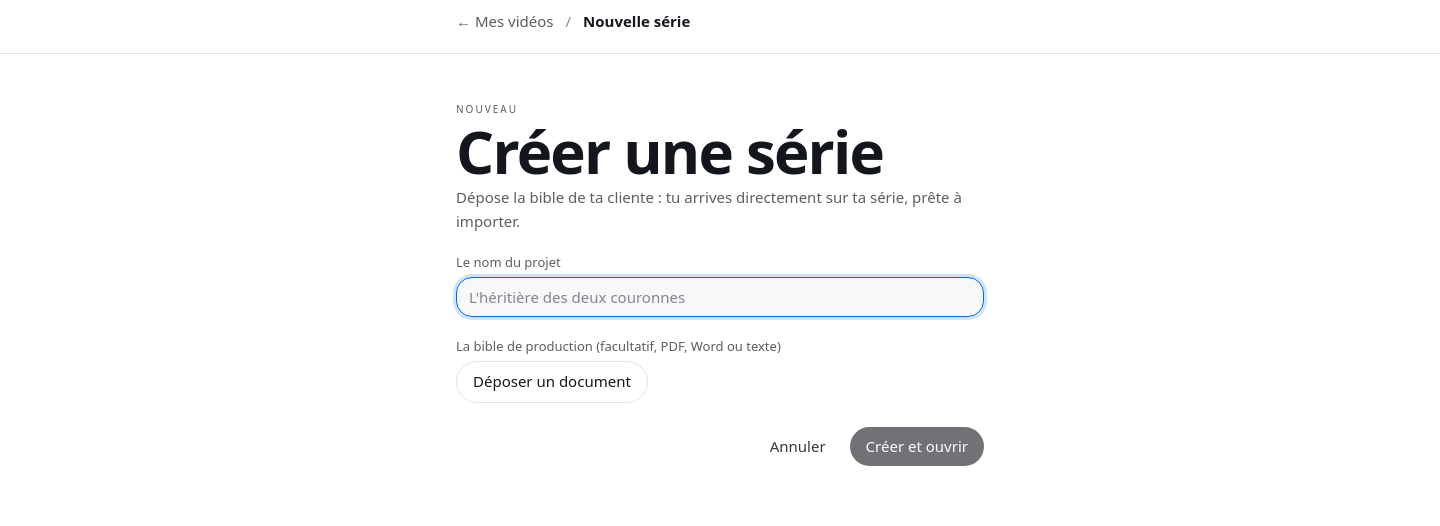
Scenario: Nouvelle série (page pleine, dédiée) › dit l'échec du serveur sans naviguer, si la création rate
The width and height of the screenshot is (1440, 526).
Type "L'héritière" into the field with placeholder "L'héritière des deux couronnes".
click(720, 297); type("L'héritière")  # box [456, 277, 984, 317]
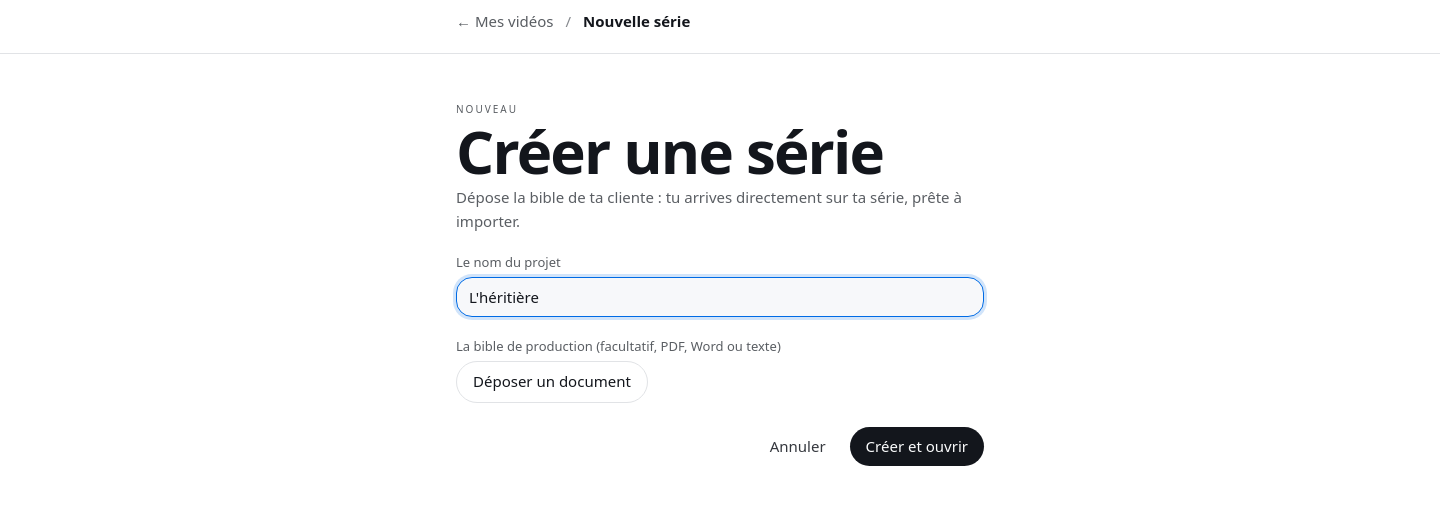
Click the button "Créer et ouvrir".
click(917, 446)  # box [850, 427, 984, 466]
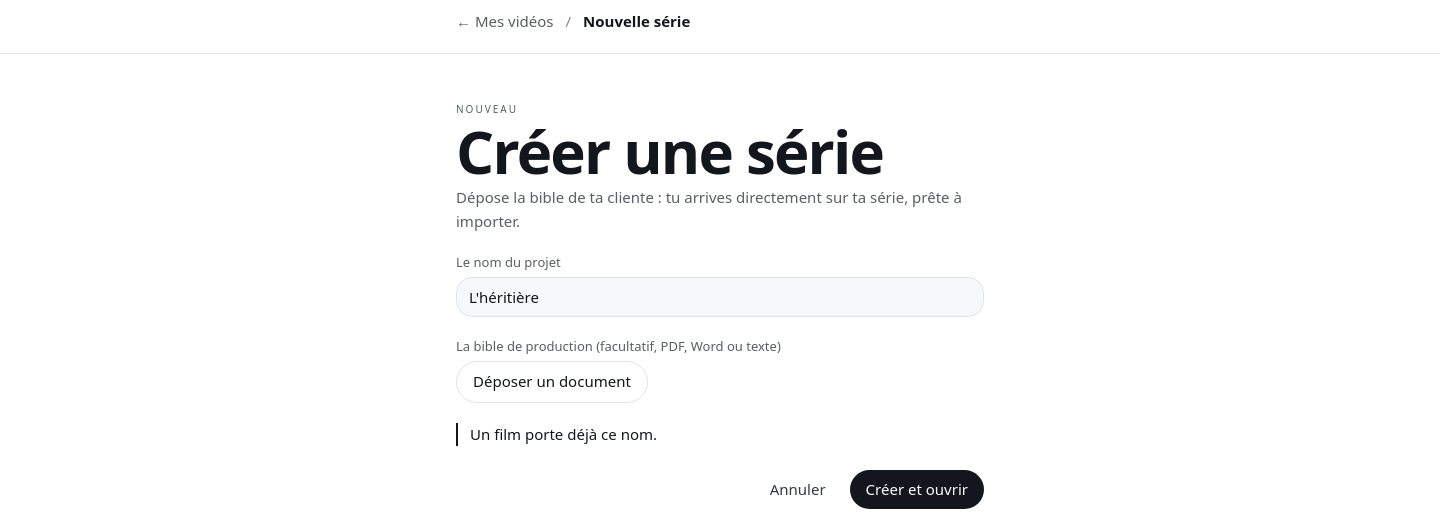
Result: the message reads "Un film porte déjà ce nom." at [470, 424, 657, 444]
